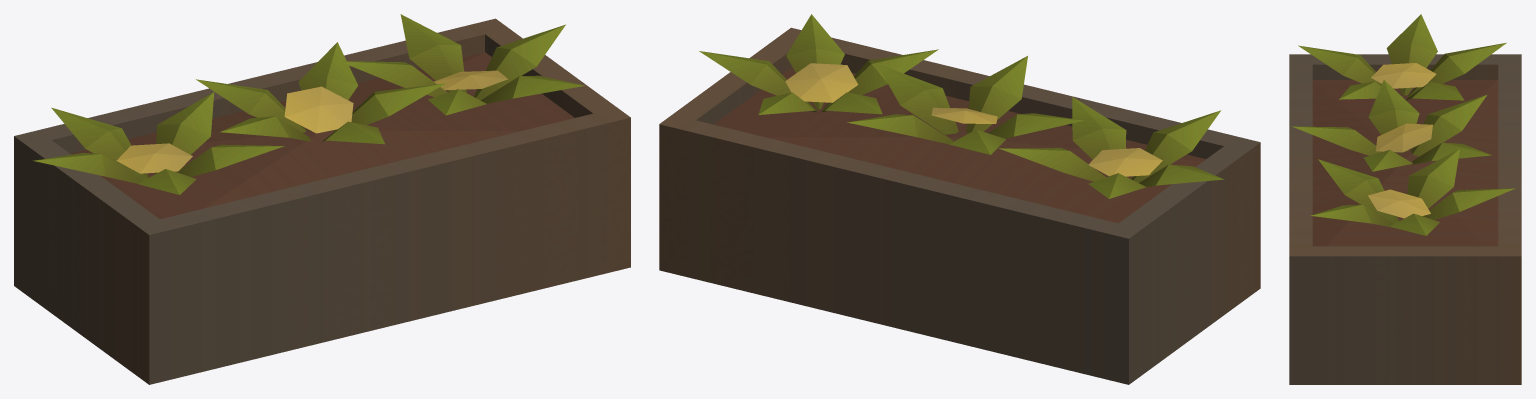
File: Flower_Pot_1A.fbx
3 views of the same model, side by side, from view 1: azimuth 30°, elevation 25°; view 2: azimuth 150°, elevation 25°; view 3: azimuth 270°, elevation 25° (orthographic). The views are drawn at different scales.
Visible parts, largest first — view 1: polySurface10670; view 2: polySurface10670; view 3: polySurface10670.
Boxes of the visible parts, left/top/right/bottom form: polySurface10670: left=14, top=14, right=630, bottom=384; polySurface10670: left=659, top=14, right=1260, bottom=384; polySurface10670: left=1289, top=14, right=1521, bottom=384.
Bounding box in the file's own units: 206 × 66.74 × 90.
